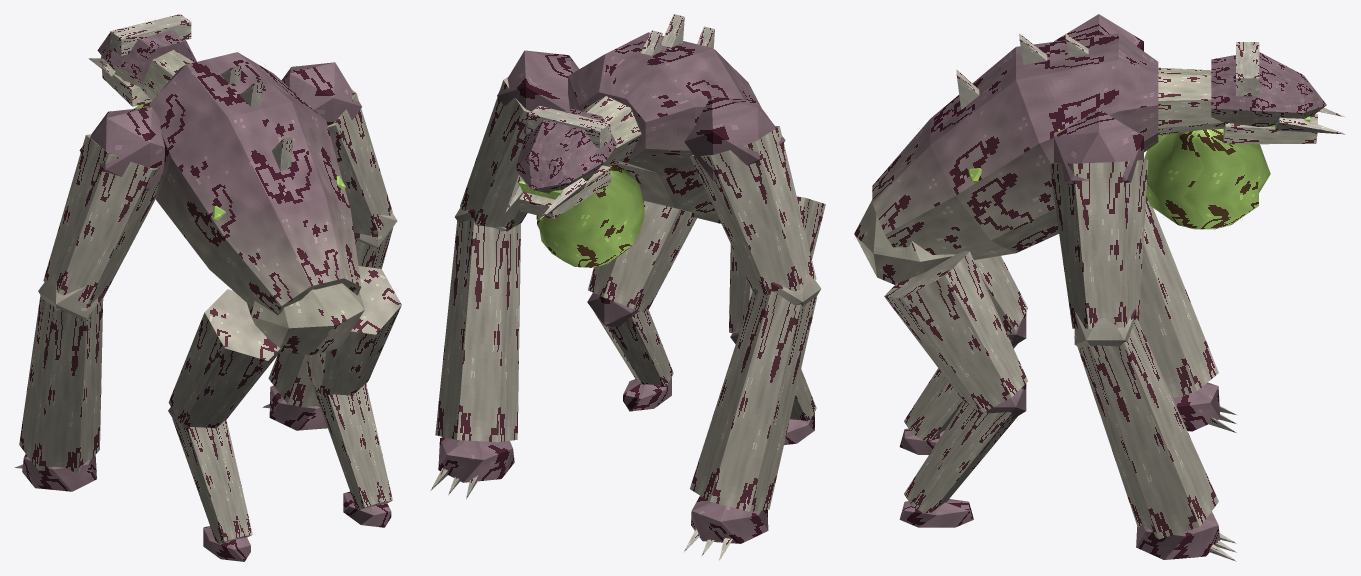
The model's file is enemy_spitter.gltf.
3 renders of one model, left to right at view 1: azimuth 30°, elevation 25°; view 2: azimuth 150°, elevation 25°; view 3: azimuth 270°, elevation 25°, orthographic. The views are drawn at different scales.
Visible parts, largest first — view 1: body, arm_l, forearm_l, thigh_l, arm_r, shin_l, shin_r, thigh_r, pelvis, forearm_r, head, neck (+1 smaller); view 2: forearm_l, forearm_r, body, arm_l, arm_r, head, thigh_r, sac, shin_r, thigh_l, neck, jaw (+1 smaller); view 3: body, forearm_r, arm_r, thigh_r, sac, forearm_l, head, shin_r, neck, pelvis, shin_l, thigh_l (+2 smaller).
Part boxes in pixels (x1,y1,x2,y2): body: (149, 52, 361, 314); arm_l: (43, 107, 164, 303); forearm_l: (14, 280, 106, 491); thigh_l: (168, 289, 280, 428); arm_r: (281, 62, 392, 239); shin_l: (172, 418, 252, 561); shin_r: (312, 383, 392, 527); thigh_r: (307, 266, 401, 397); pelvis: (247, 283, 364, 355); forearm_r: (262, 213, 397, 430); head: (88, 14, 196, 94); neck: (143, 50, 194, 100); forearm_l: (683, 274, 821, 561); forearm_r: (430, 207, 520, 499); body: (568, 14, 760, 216); arm_l: (684, 96, 816, 296); arm_r: (460, 50, 579, 231); head: (506, 106, 617, 220); thigh_r: (587, 201, 696, 326); sac: (536, 163, 644, 267); shin_r: (593, 310, 673, 411); thigh_l: (729, 196, 825, 343); neck: (582, 96, 641, 166); jaw: (519, 165, 611, 218); body: (872, 33, 1158, 259); forearm_r: (1074, 309, 1236, 561); arm_r: (1049, 109, 1148, 328); thigh_r: (884, 251, 1027, 419); sac: (1144, 129, 1270, 229); forearm_l: (1138, 196, 1237, 432); head: (1211, 42, 1345, 134); shin_r: (899, 401, 1017, 527); neck: (1158, 67, 1223, 135); pelvis: (854, 200, 955, 284); shin_l: (899, 340, 1017, 454); thigh_l: (974, 256, 1027, 346).
Size of the model in its own units: 1.27 by 1.52 by 1.49.
16 materials, 16 textured.
